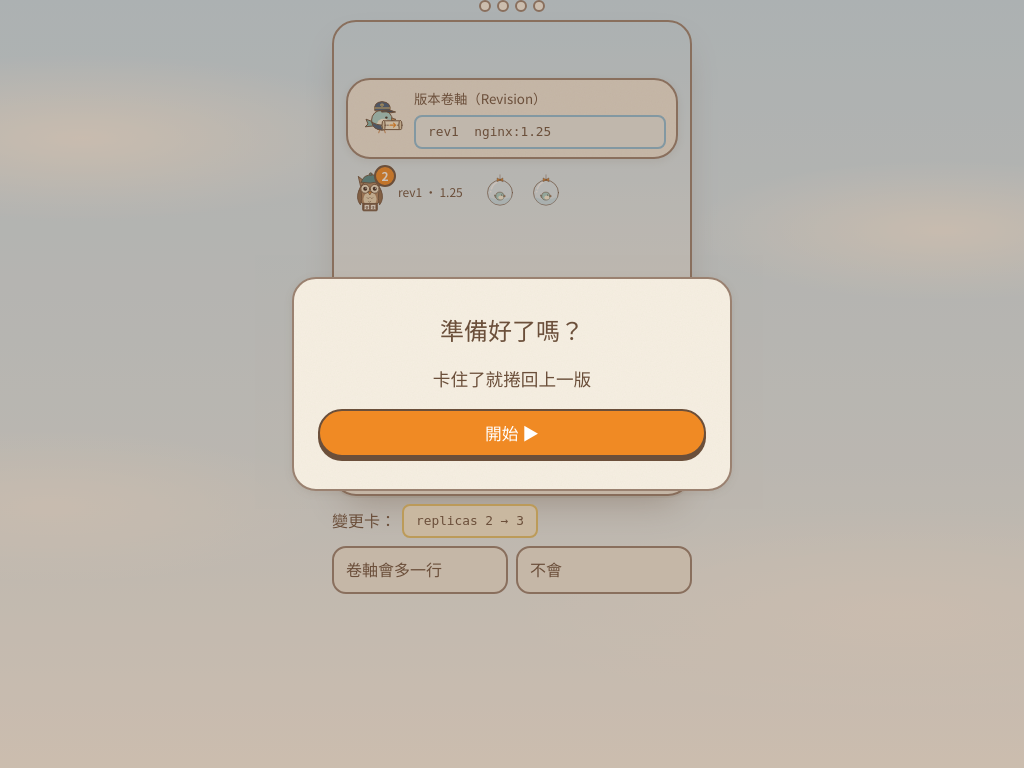
it: Day11Game › 改 replicas 的提示用中文角色名
Click the button with test id "shell-start".
click(512, 433)  # box [318,409,706,457]
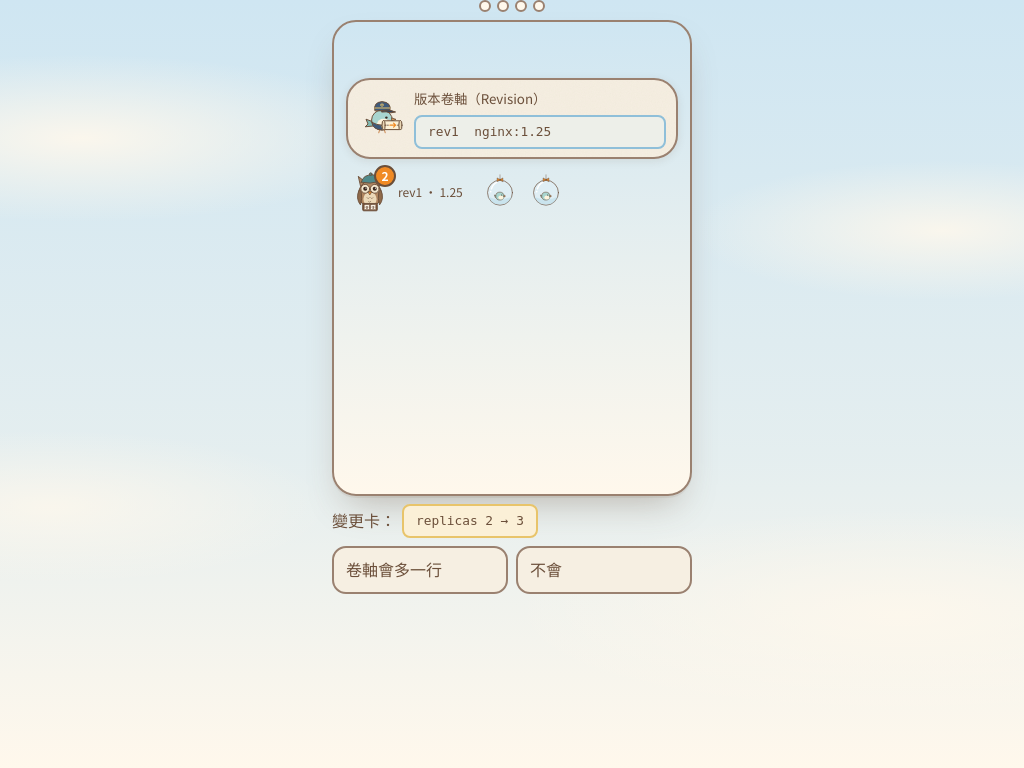
Click the button "不會".
click(604, 570)  # box [516,546,692,594]
Wait 500 ms
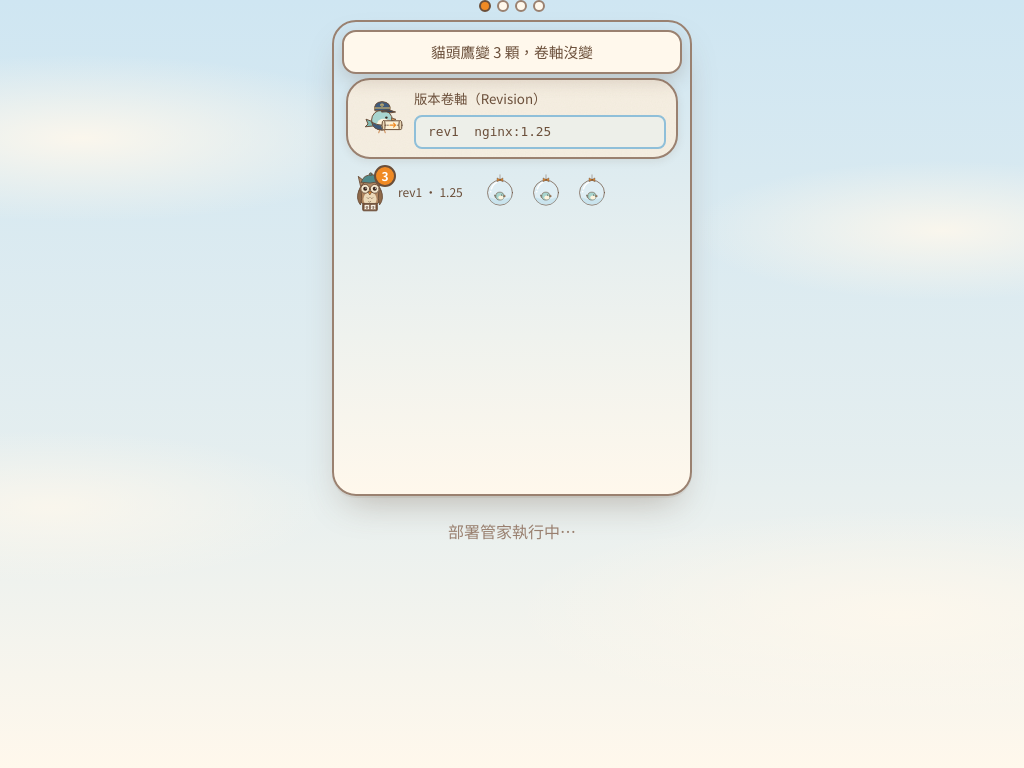
Check: the message "貓頭鷹變 3 顆，卷軸沒變" is shown, box [342,30,682,74]
